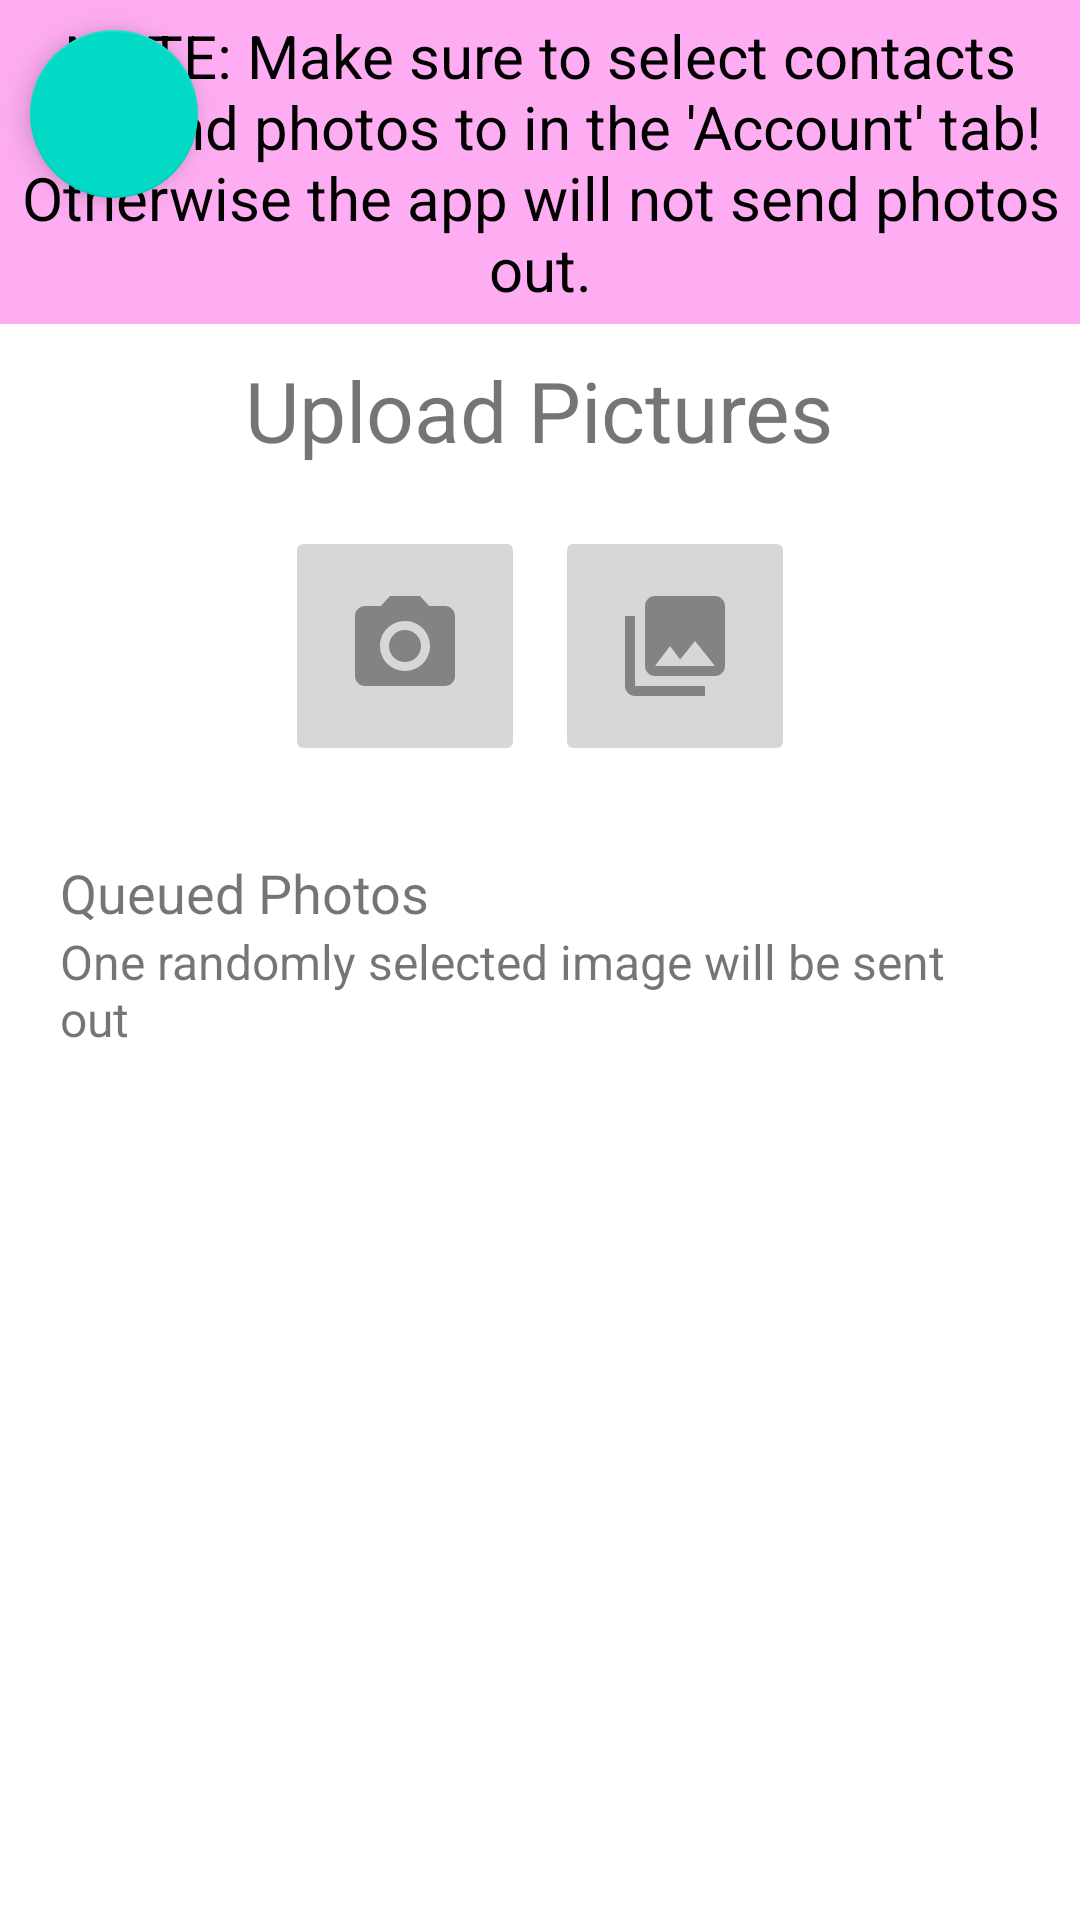

Screen size 1080×1920. Icon name, then its box in pixels as (x1, y1, x2, y2):
photo camera: (297, 544, 513, 748)
photo library: (567, 544, 783, 748)
